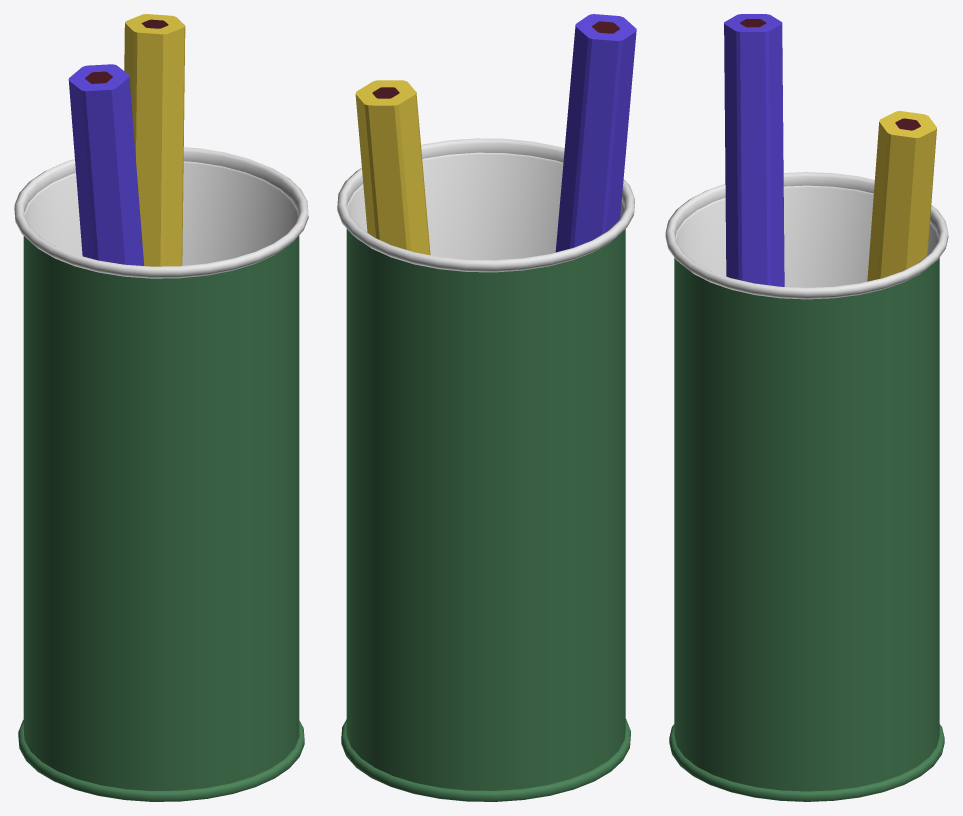
File: пенал.fbx
The picture shows the model from 3 angles, left to right: view 1: azimuth 30°, elevation 25°; view 2: azimuth 150°, elevation 25°; view 3: azimuth 270°, elevation 25°; orthographic projection. The views are drawn at different scales.
Visible parts, largest first — view 1: pensil1, Cylinder; view 2: pensil1, Cylinder; view 3: pensil1, Cylinder.
Boxes of the visible parts, x1,y1,x2,y2 form: pensil1: (14,147,308,801); Cylinder: (68,14,185,266); pensil1: (337,138,634,801); Cylinder: (355,14,636,255); pensil1: (665,172,948,801); Cylinder: (724,14,936,286).
Bounding box in the file's own units: 213 × 567 × 213.
